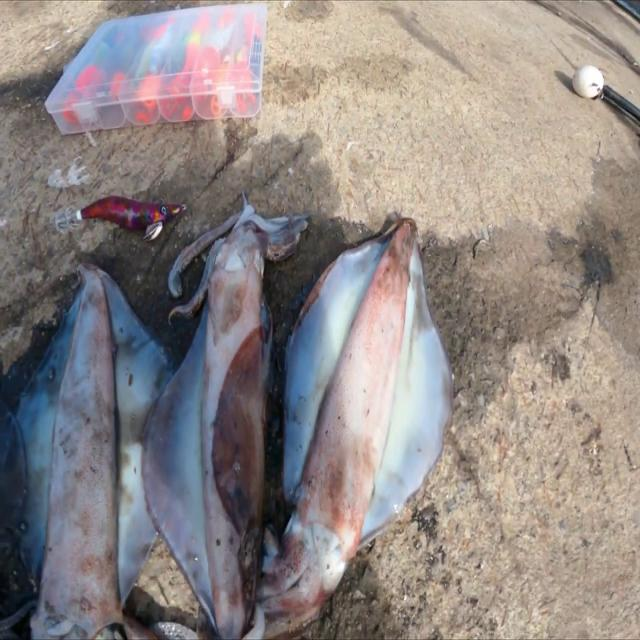SQUID: (266, 214, 466, 624), (144, 185, 308, 640), (8, 232, 177, 625)
